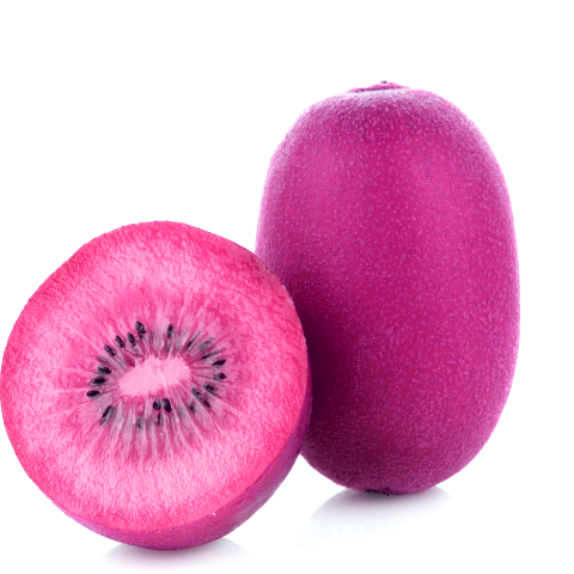kiwi: (210, 65, 571, 542)
